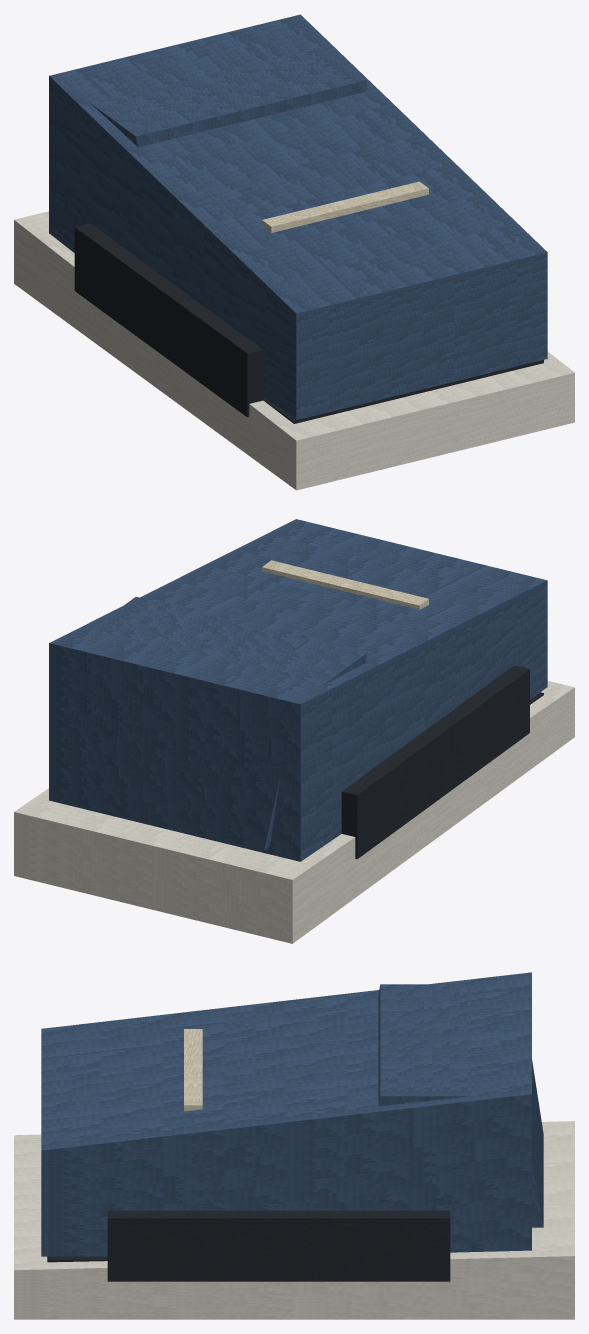
File: running_sneaker.gltf
3 renders of one model, top to bottom at view 1: azimuth 30°, elevation 25°; view 2: azimuth 150°, elevation 25°; view 3: azimuth 270°, elevation 25°, orthographic.
Visible parts, largest first — view 1: Velocity Runner; view 2: Velocity Runner; view 3: Velocity Runner.
Part boxes in pixels (x1,y1,x2,y2): Velocity Runner: [14, 14, 574, 490]; Velocity Runner: [14, 519, 574, 943]; Velocity Runner: [14, 972, 574, 1319].
Size of the model in its own units: 0.208 by 0.155 by 0.36.
4 materials, 4 textured.
